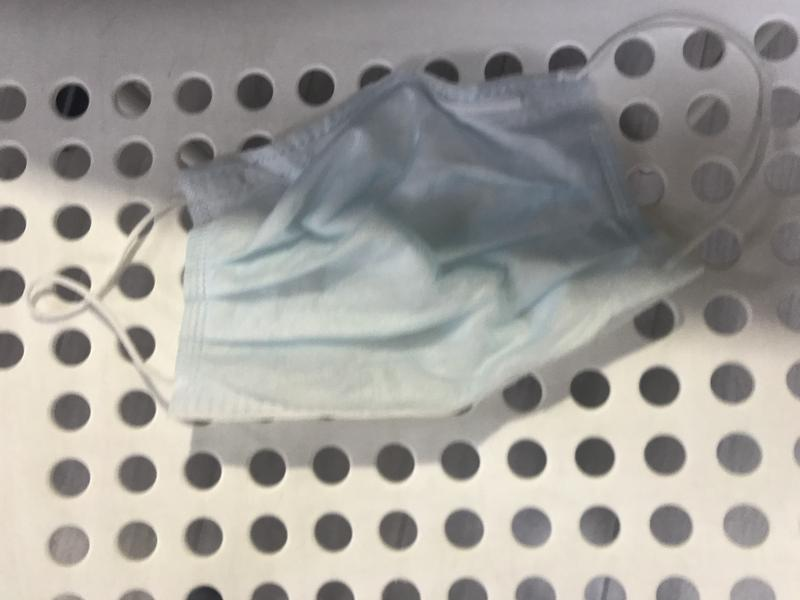medical_mask: (28, 16, 775, 424)
